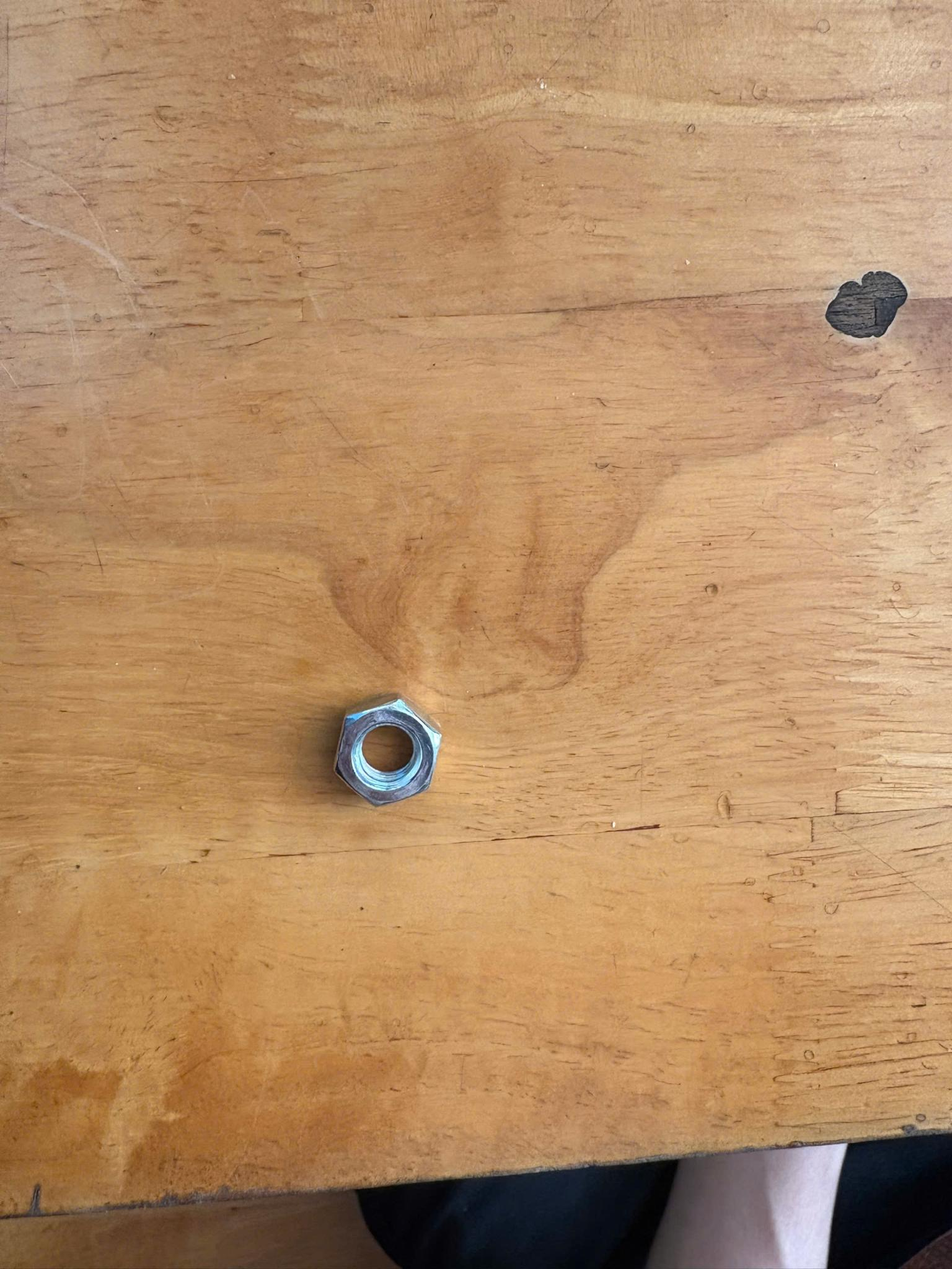nut: (332, 690, 450, 823)
